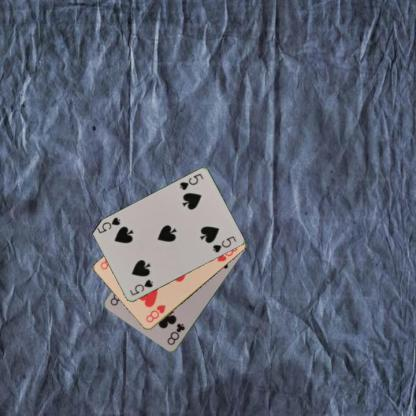5s: (176, 171, 204, 192), (127, 277, 154, 297)
8c: (164, 320, 186, 346)
8h: (143, 302, 167, 324)
